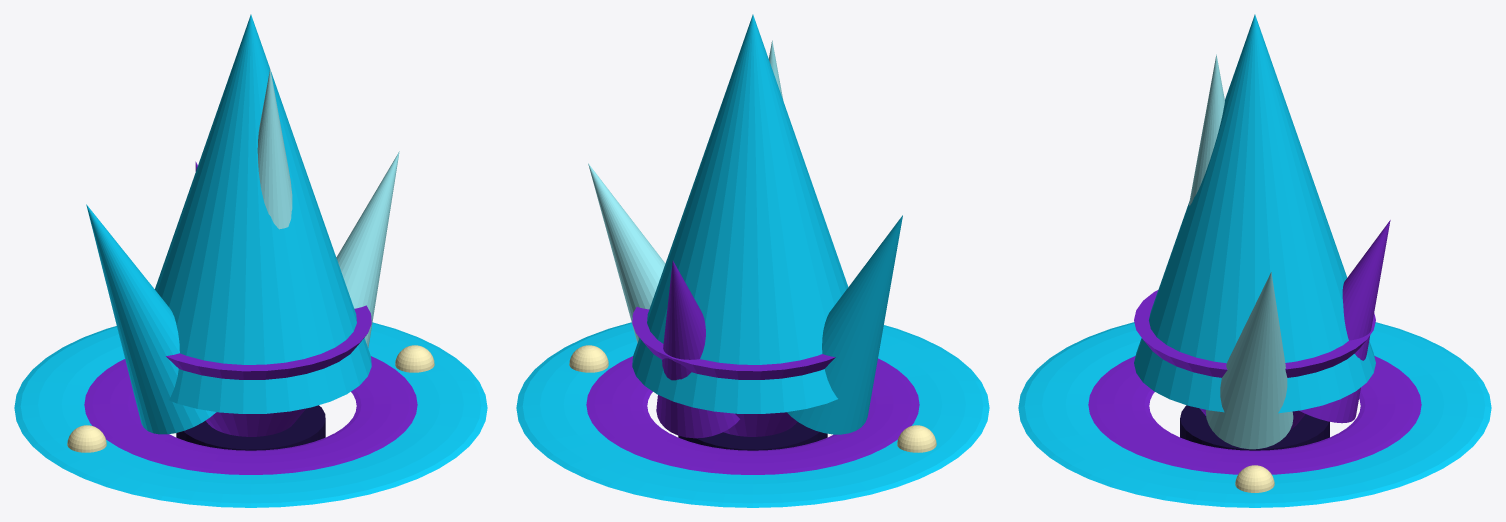
File: fragmento_energia.obj
3 renders of one model, left to right at view 1: azimuth 30°, elevation 25°; view 2: azimuth 150°, elevation 25°; view 3: azimuth 270°, elevation 25°, orthographic.
Visible parts, largest first — view 1: Cristal_Central_Superior, Aro_Temporal_Exterior, Aro_Temporal_Interior, Fragmento_Izquierdo, Cristal_Central_Inferior, Fragmento_Derecho, Cristal_Interior, Base_Sombra, Orbe_Izquierdo, Orbe_Derecho; view 2: Cristal_Central_Superior, Aro_Temporal_Exterior, Aro_Temporal_Interior, Fragmento_Izquierdo, Fragmento_Trasero, Cristal_Central_Inferior, Fragmento_Derecho, Base_Sombra, Orbe_Izquierdo, Orbe_Derecho; view 3: Cristal_Central_Superior, Aro_Temporal_Exterior, Aro_Temporal_Interior, Fragmento_Derecho, Fragmento_Trasero, Cristal_Central_Inferior, Base_Sombra, Cristal_Interior, Orbe_Derecho.
Part boxes in pixels (x1,y1,x2,y2): Cristal_Central_Superior: (155, 14, 371, 413); Aro_Temporal_Exterior: (14, 322, 487, 507); Aro_Temporal_Interior: (84, 356, 417, 474); Fragmento_Izquierdo: (86, 204, 216, 434); Cristal_Central_Inferior: (166, 305, 371, 436); Fragmento_Derecho: (336, 151, 399, 347); Cristal_Interior: (257, 69, 292, 229); Base_Sombra: (176, 405, 325, 450); Orbe_Izquierdo: (67, 425, 106, 452); Orbe_Derecho: (395, 345, 434, 372); Cristal_Central_Superior: (632, 14, 848, 413); Aro_Temporal_Exterior: (516, 322, 989, 507); Aro_Temporal_Interior: (586, 356, 919, 474); Fragmento_Izquierdo: (787, 215, 902, 434); Fragmento_Trasero: (656, 260, 739, 438); Cristal_Central_Inferior: (632, 307, 835, 436); Fragmento_Derecho: (588, 163, 665, 343); Base_Sombra: (678, 421, 827, 450); Orbe_Izquierdo: (897, 425, 936, 452); Orbe_Derecho: (569, 345, 608, 372); Cristal_Central_Superior: (1134, 14, 1375, 413); Aro_Temporal_Exterior: (1018, 322, 1491, 507); Aro_Temporal_Interior: (1088, 356, 1421, 474); Fragmento_Derecho: (1205, 272, 1293, 449); Fragmento_Trasero: (1299, 220, 1390, 423); Cristal_Central_Inferior: (1134, 290, 1375, 429); Base_Sombra: (1180, 405, 1329, 450); Cristal_Interior: (1189, 54, 1224, 205); Orbe_Derecho: (1235, 465, 1274, 492).
Size of the model in its own units: 4.3 by 4.63 by 4.3.
